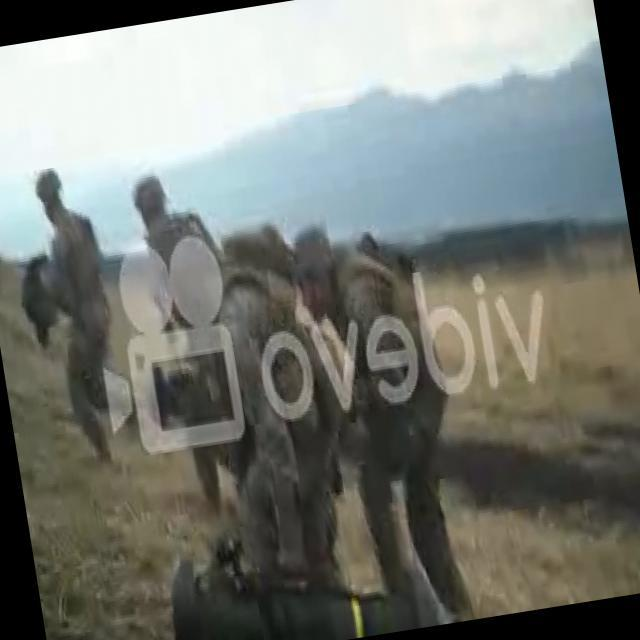rocket: (163, 533, 421, 640)
